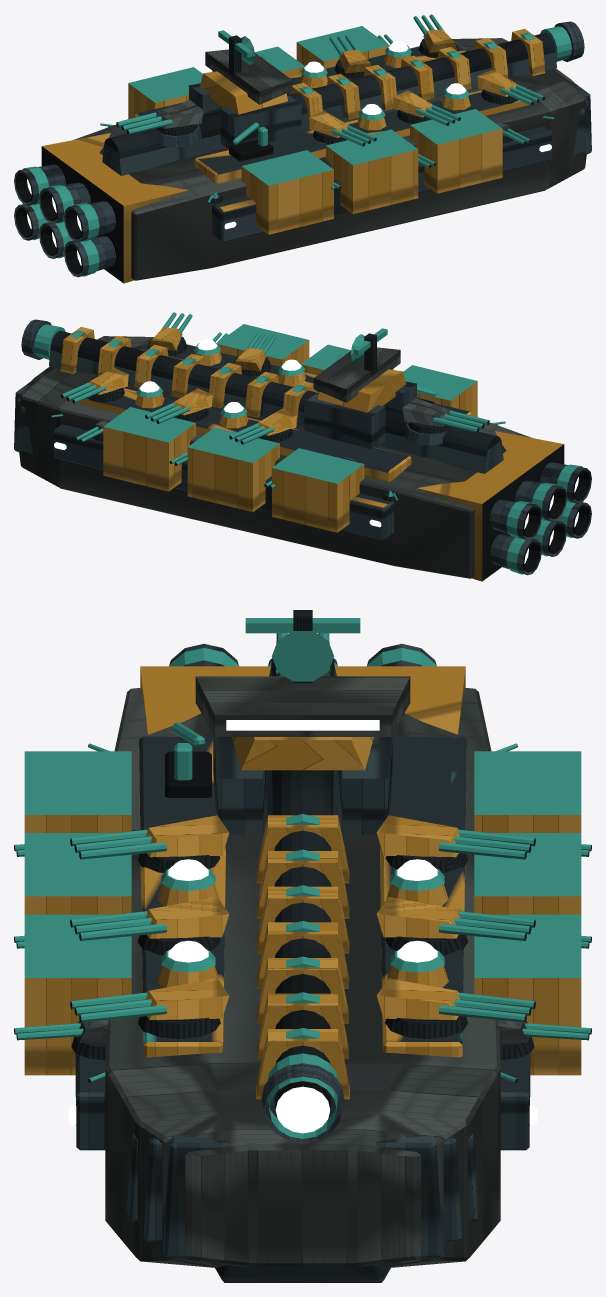
Rendered from battleship.glb.
3 renders of one model, top to bottom at view 1: azimuth 30°, elevation 25°; view 2: azimuth 150°, elevation 25°; view 3: azimuth 270°, elevation 25°, orthographic. The views are drawn at different scales.
Visible parts, largest first — view 1: hull_body, weapon_mounts, engine_block, sensor_tower, shield_domes; view 2: hull_body, weapon_mounts, engine_block, sensor_tower, shield_domes; view 3: hull_body, weapon_mounts, sensor_tower, engine_block, shield_domes.
Boxes of the visible parts, x1,y1,x2,y2 form: hull_body: [74, 26, 591, 280]; weapon_mounts: [100, 14, 584, 203]; engine_block: [14, 133, 188, 283]; sensor_tower: [189, 30, 301, 148]; shield_domes: [300, 41, 470, 130]; hull_body: [14, 324, 531, 578]; weapon_mounts: [21, 312, 505, 501]; engine_block: [417, 431, 591, 581]; sensor_tower: [304, 328, 416, 448]; shield_domes: [135, 339, 305, 428]; hull_body: [24, 688, 581, 1282]; weapon_mounts: [14, 633, 591, 1143]; sensor_tower: [195, 610, 410, 835]; engine_block: [140, 643, 465, 734]; shield_domes: [157, 859, 448, 987].
Size of the model in its own units: 60 by 20.09 by 28.78.
Materials: 1 (1 with a texture image).
